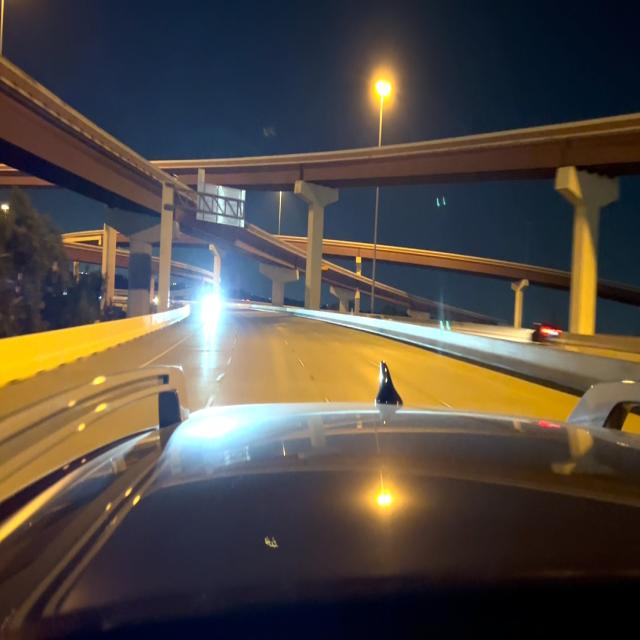back-of-sign: (198, 183, 246, 230)
